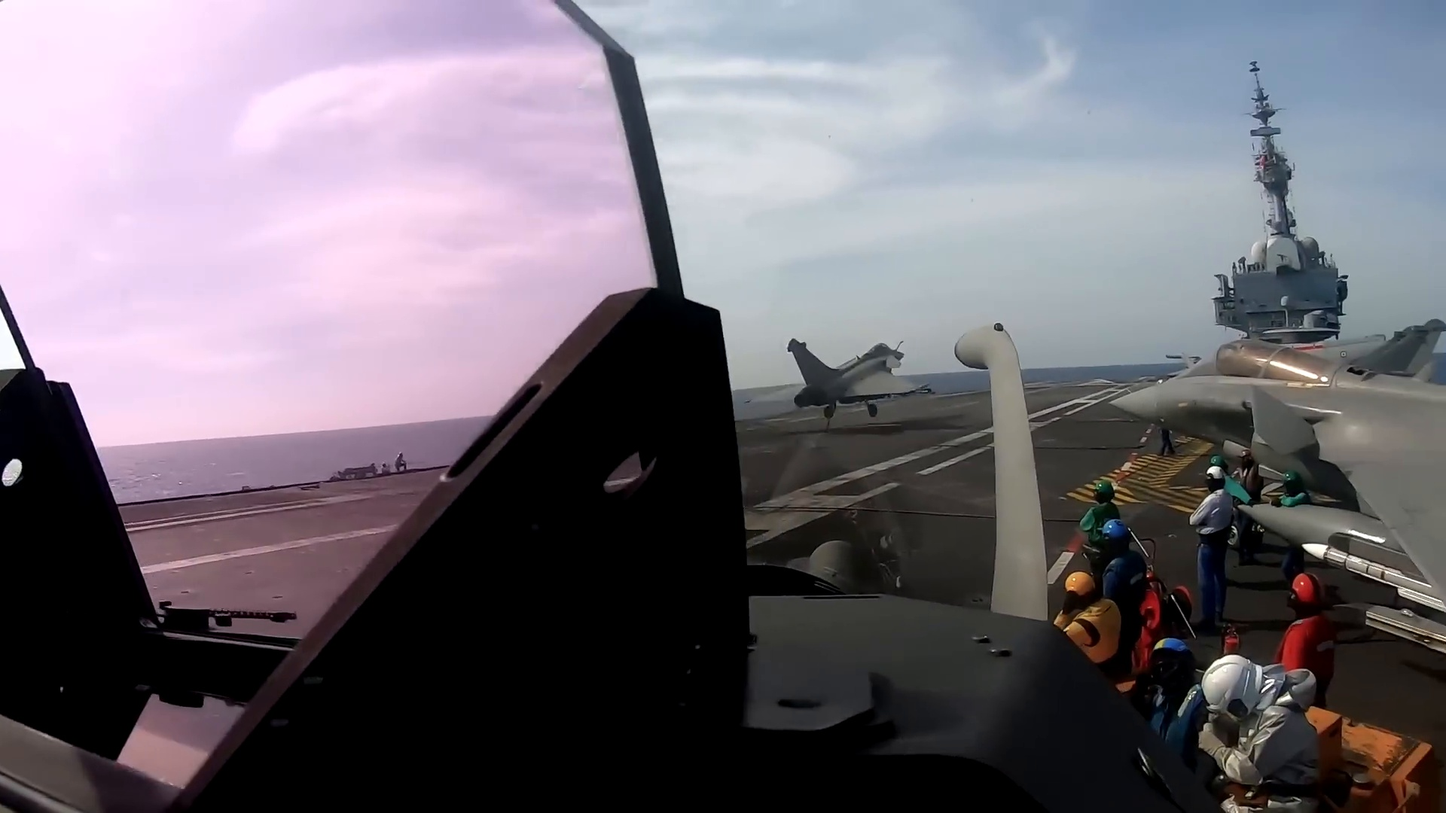Rafale: (1105, 339, 1446, 607), (745, 337, 929, 424)
